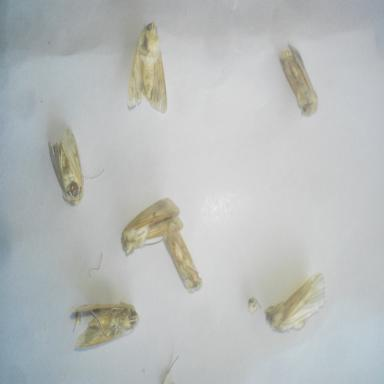abw: (124, 16, 170, 118), (119, 192, 186, 259), (64, 298, 141, 356), (264, 270, 328, 335), (159, 217, 205, 295), (46, 123, 87, 210), (276, 39, 320, 120)
